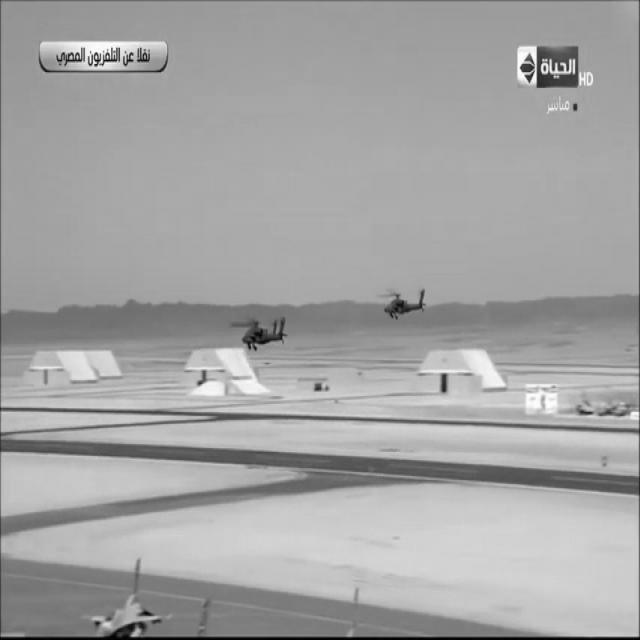helikopter: (226, 293, 302, 363), (373, 262, 441, 332)
